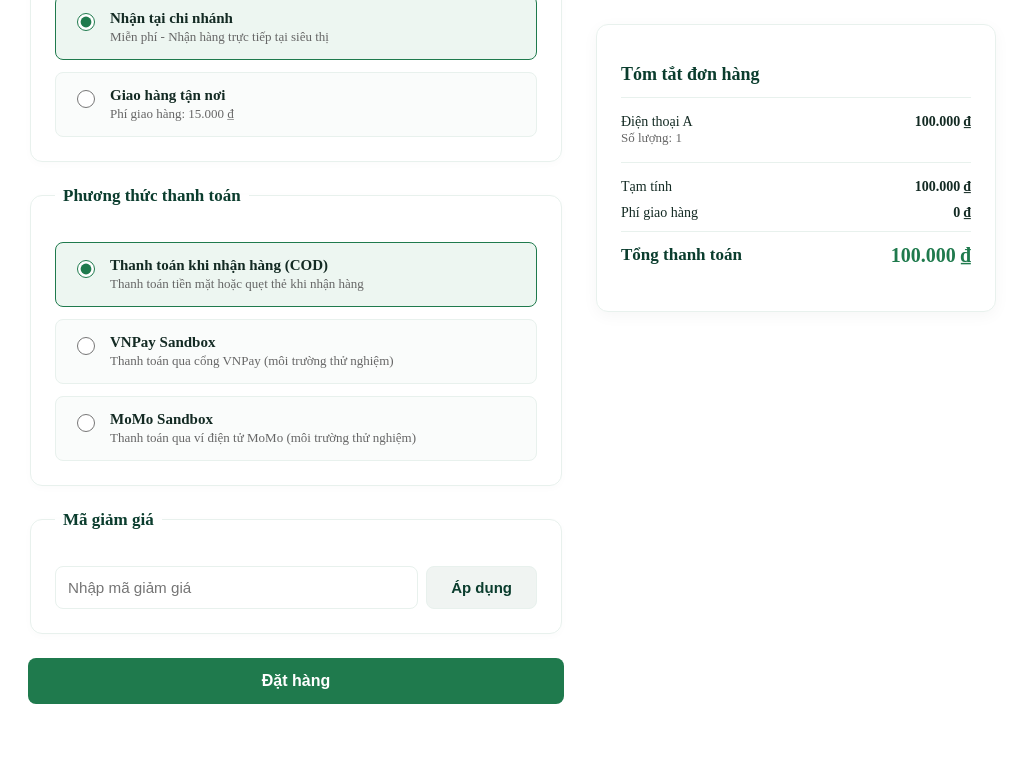
Scenario: CheckoutPage › shows stock conflict error from backend
(page scrolled)
Click the button "Đặt hàng" at (296, 681), box left=28, top=658, right=564, bottom=704
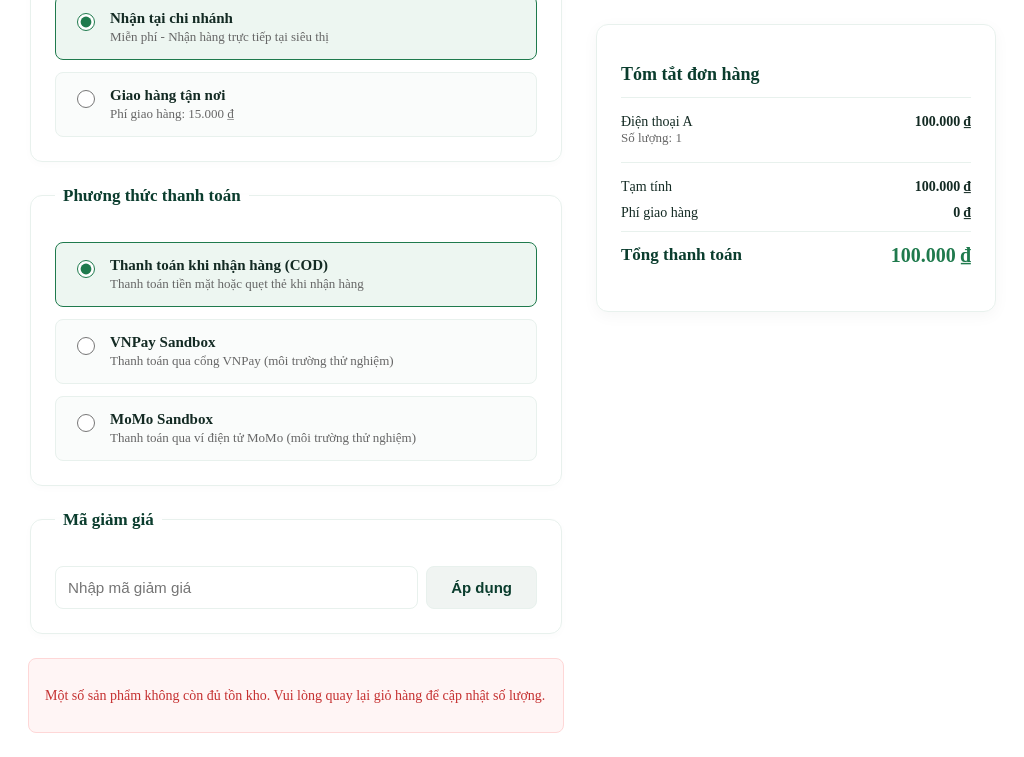
Result: the message shows "Một số sản phẩm không còn đủ tồn kho." at left=45, top=688, right=545, bottom=703
